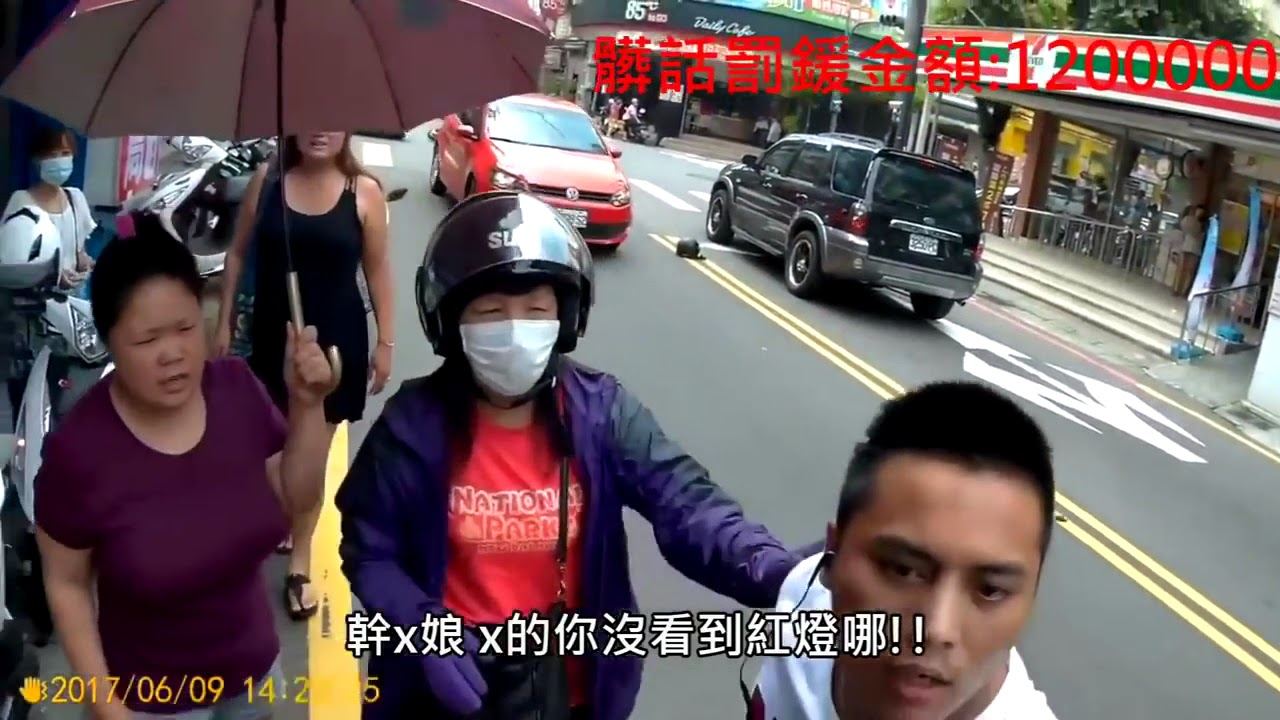helmet: (430, 187, 606, 307)
